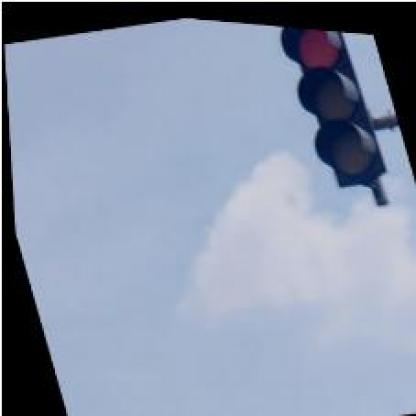red: (276, 20, 388, 189)
